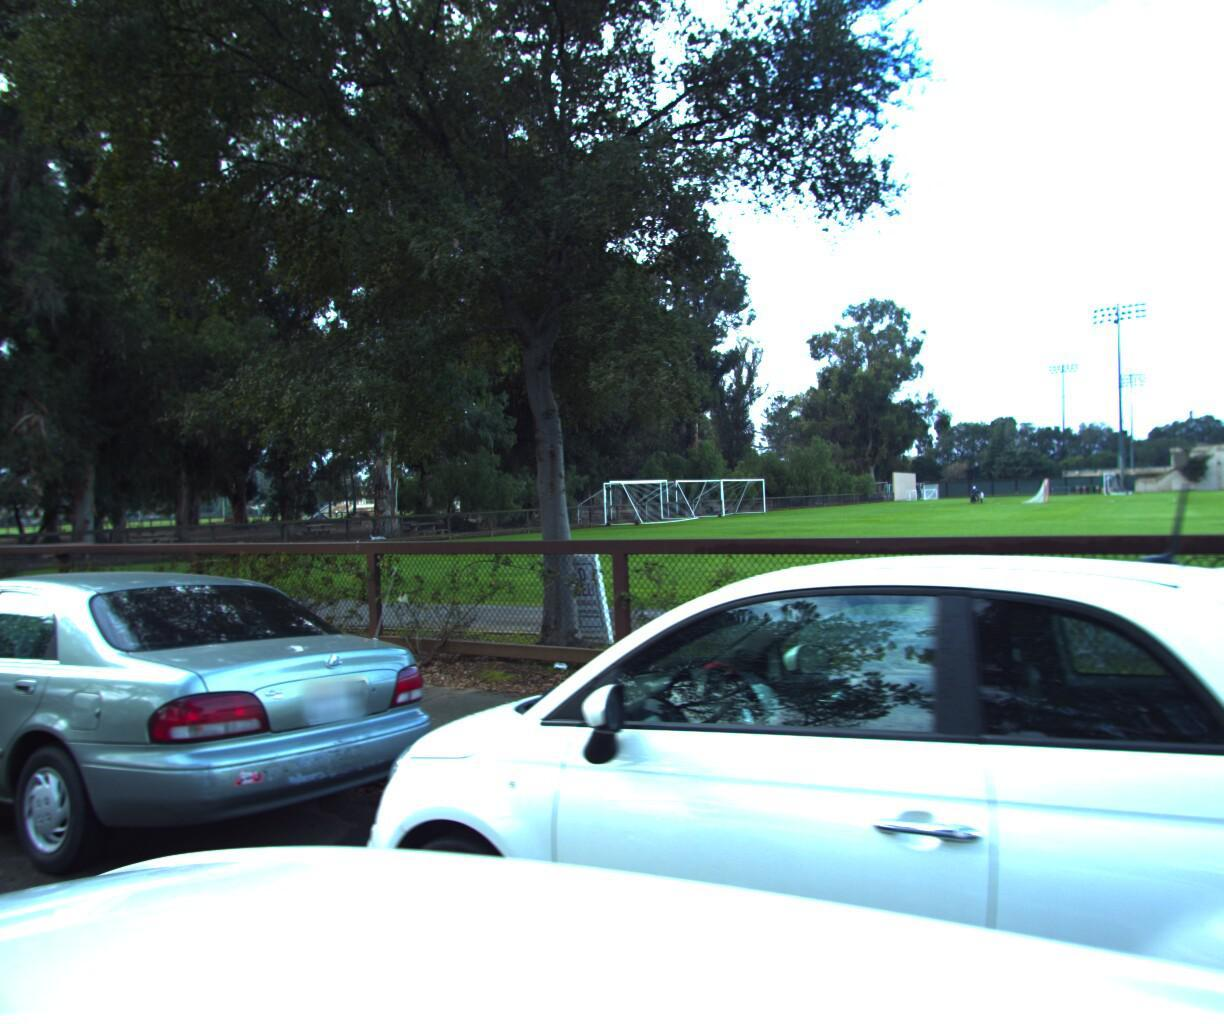car: (281, 522, 1224, 1024), (0, 551, 480, 944)
